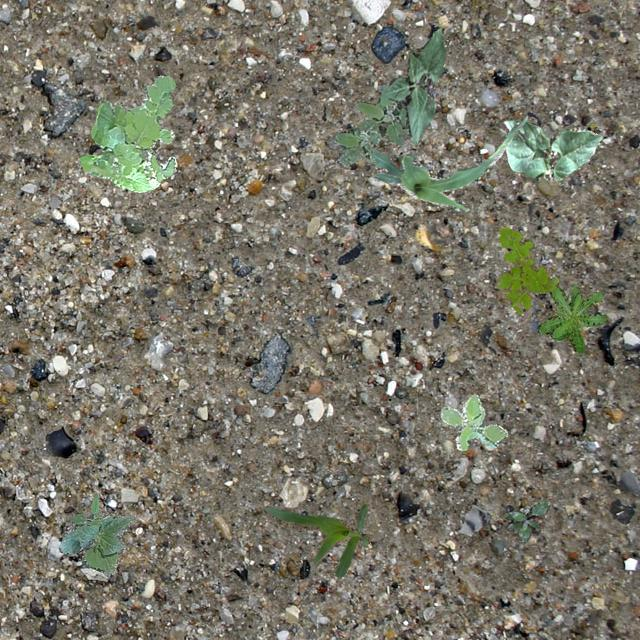crop: (369, 116, 526, 212), (262, 502, 370, 576), (384, 28, 446, 142), (502, 118, 602, 182), (58, 491, 132, 572)
weed: (78, 75, 175, 192), (332, 81, 407, 166), (496, 225, 558, 312), (536, 284, 606, 352), (439, 392, 506, 450), (502, 500, 548, 540)
